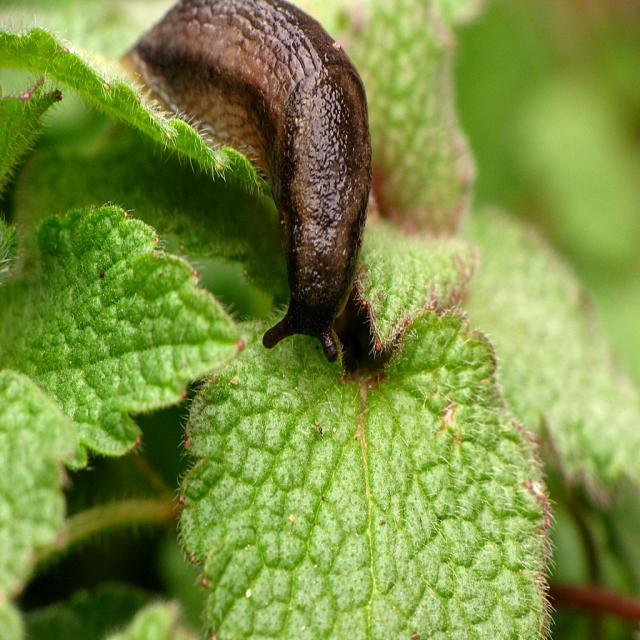slug: (124, 0, 366, 367)
